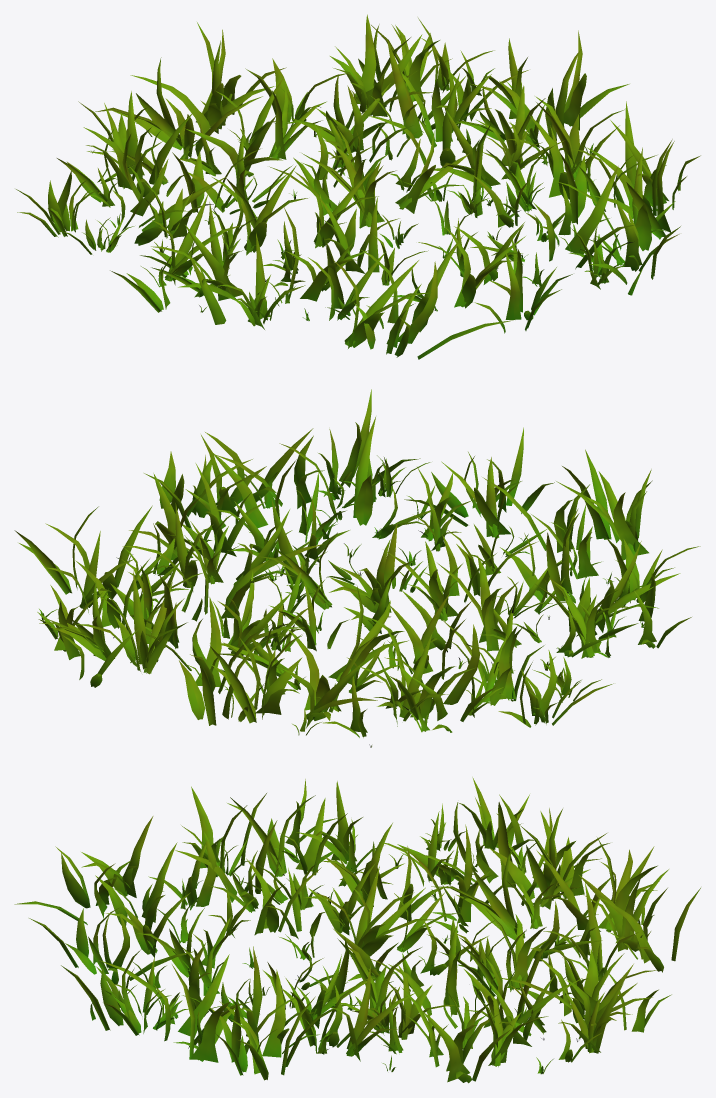
File: grass-v2.glb
3 renders of one model, top to bottom at view 1: azimuth 30°, elevation 25°; view 2: azimuth 150°, elevation 25°; view 3: azimuth 270°, elevation 25°, orthographic. The views are drawn at different scales.
Parts seen in each view (by area): view 1: Plane.002; view 2: Plane.002; view 3: Plane.002.
Boxes of the visible parts, bbox=[...] form: Plane.002: bbox=[16, 14, 700, 359]; Plane.002: bbox=[14, 389, 700, 747]; Plane.002: bbox=[14, 777, 700, 1083].
Bounding box in the file's own units: 16.66 × 2.47 × 16.72.
2 materials, 1 textured.
